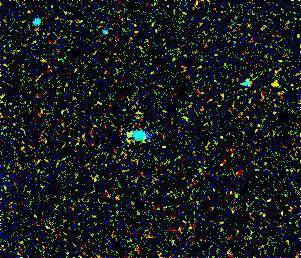star: (258, 70, 288, 100)
